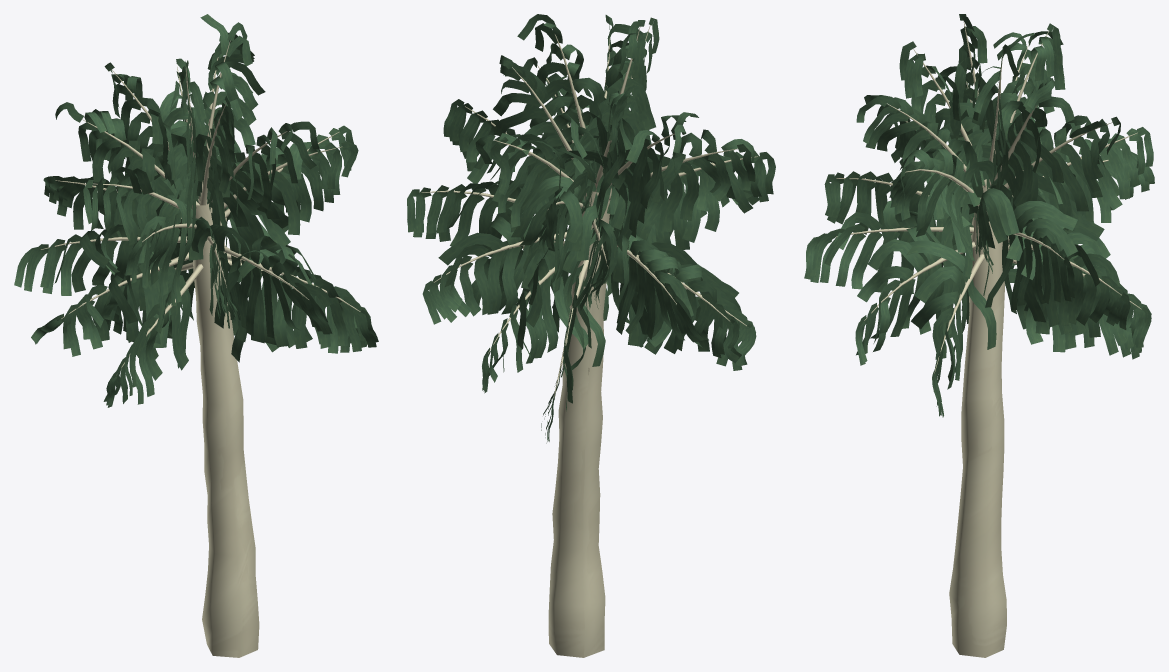
File: plam.fbx
3 views of the same model, side by side, from view 1: azimuth 30°, elevation 25°; view 2: azimuth 150°, elevation 25°; view 3: azimuth 270°, elevation 25° (orthographic). The views are drawn at different scales.
Parts seen in each view (by area): view 1: palmLight1Leaf, palmLight1Main; view 2: palmLight1Leaf, palmLight1Main; view 3: palmLight1Leaf, palmLight1Main.
Boxes of the visible parts, <box> form: palmLight1Leaf: <box>14,14,378,407</box>; palmLight1Main: <box>41,40,360,657</box>; palmLight1Leaf: <box>407,14,775,443</box>; palmLight1Main: <box>421,25,759,657</box>; palmLight1Leaf: <box>804,14,1154,417</box>; palmLight1Main: <box>835,21,1141,657</box>.
Size of the model in its own units: 6.43 by 12.37 by 6.4.
